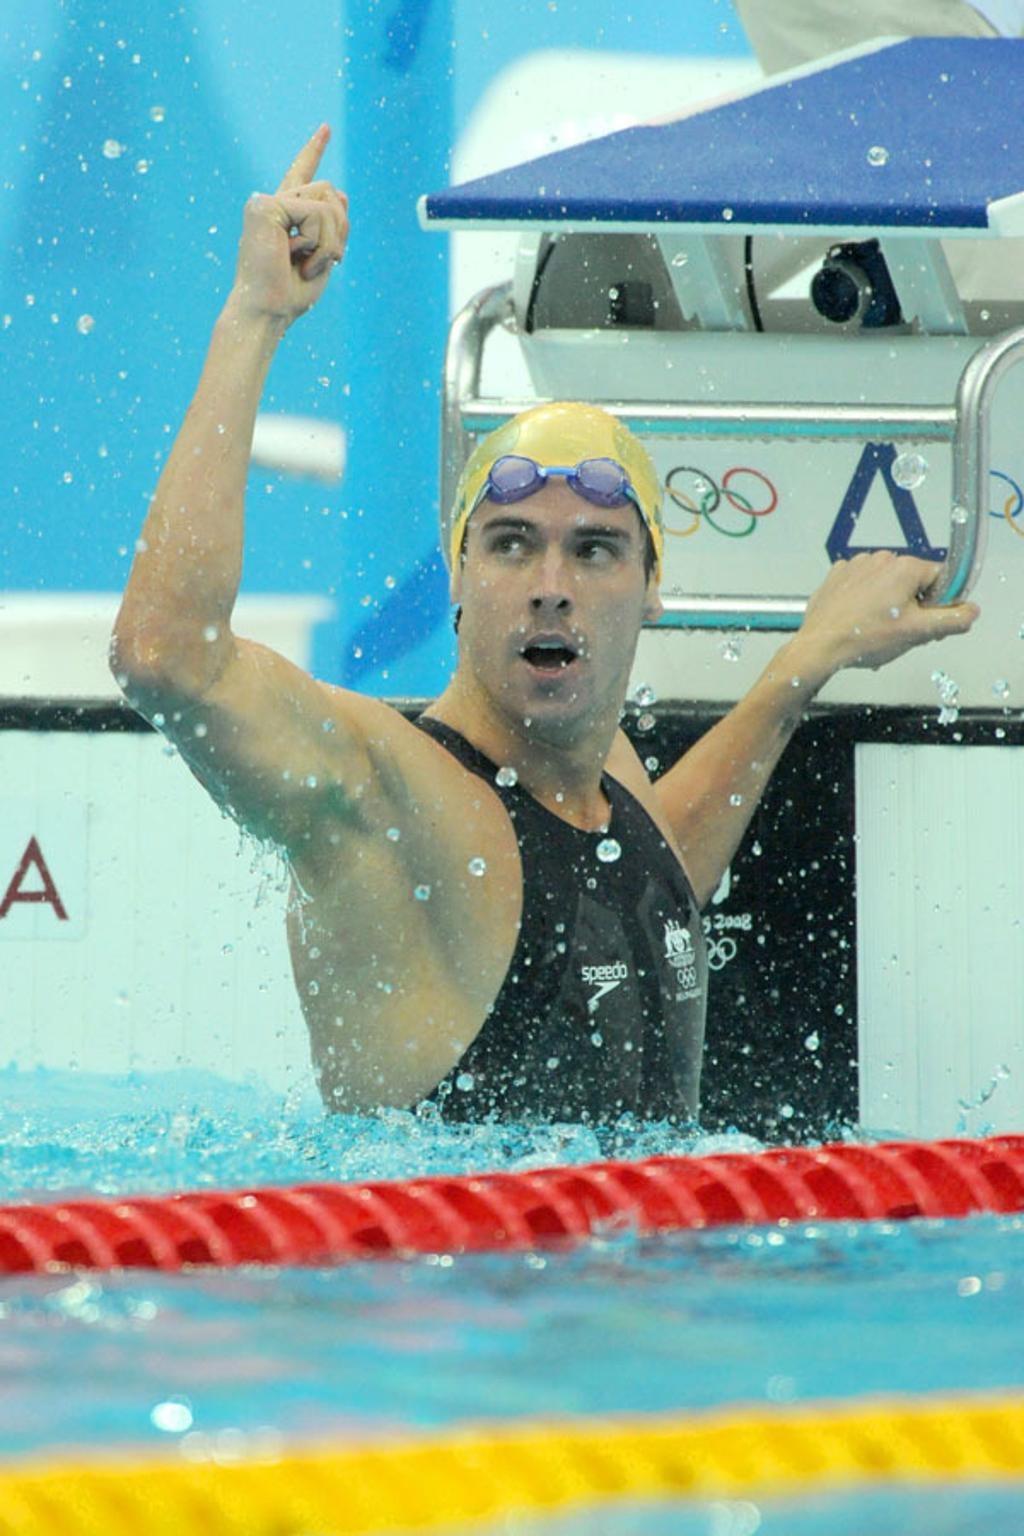face: (459, 489, 642, 720)
